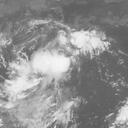cyclone: (29, 47, 71, 79)
